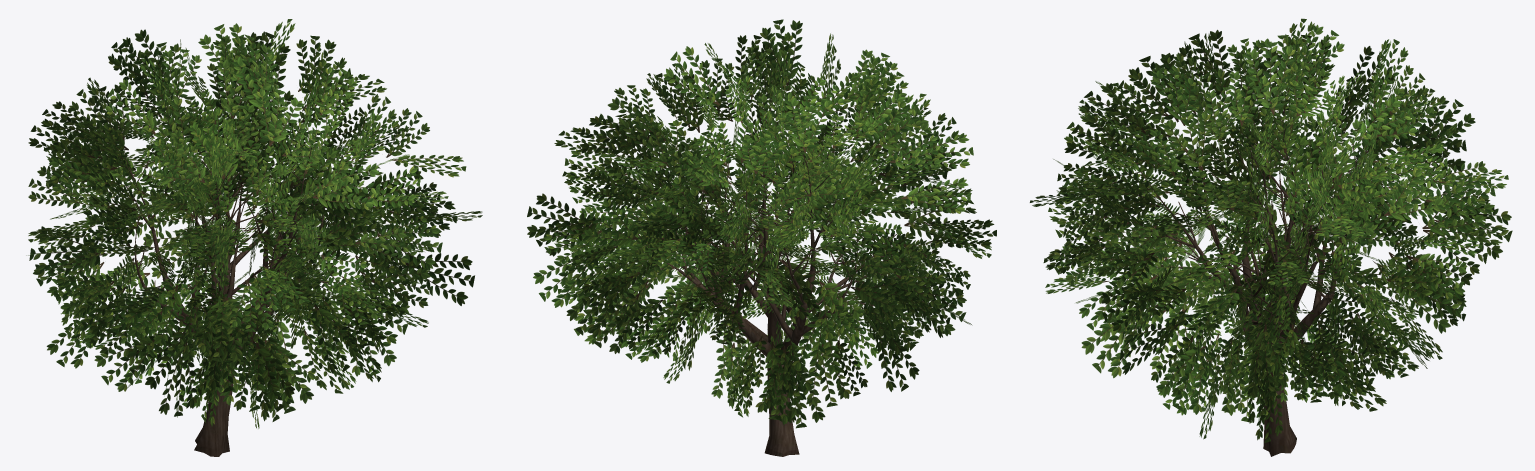
Rendered from tree_round_b.glb.
3 views of the same model, side by side, from view 1: azimuth 30°, elevation 25°; view 2: azimuth 150°, elevation 25°; view 3: azimuth 270°, elevation 25° (orthographic). The views are drawn at different scales.
Parts seen in each view (by area): view 1: tree_round_b_leaves, tree_round_b; view 2: tree_round_b_leaves, tree_round_b; view 3: tree_round_b_leaves, tree_round_b.
Boxes of the visible parts, box(x1,y1,x2,y2) form: tree_round_b_leaves: box(26, 19, 482, 428); tree_round_b: box(123, 111, 353, 456); tree_round_b_leaves: box(527, 19, 996, 428); tree_round_b: box(629, 109, 901, 456); tree_round_b_leaves: box(1029, 18, 1512, 442); tree_round_b: box(1117, 114, 1381, 456).
Size of the model in its own units: 10.56 by 10 by 10.53.
Materials: 2 (2 with a texture image).
